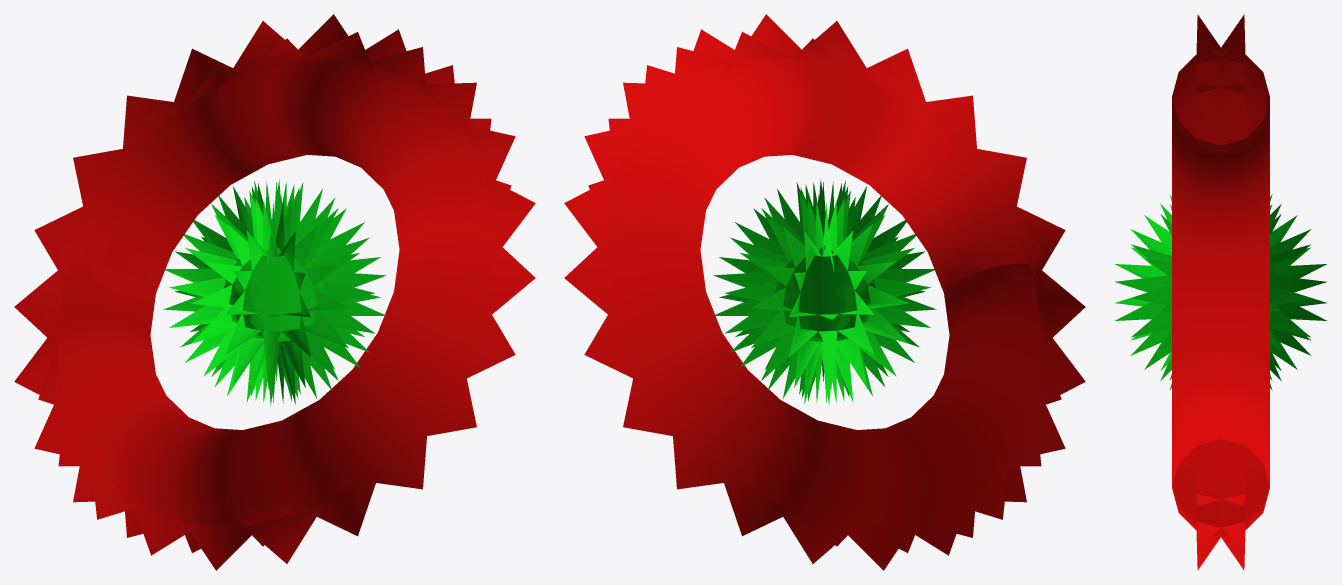
File: success.glb
The picture shows the model from 3 angles, left to right: view 1: azimuth 30°, elevation 25°; view 2: azimuth 150°, elevation 25°; view 3: azimuth 270°, elevation 25°; orthographic projection. The views are drawn at different scales.
Visible parts, largest first — view 1: Success; view 2: Success; view 3: Success.
Boxes of the visible parts, bbox=[...] form: Success: bbox=[14, 14, 535, 570]; Success: bbox=[564, 14, 1085, 570]; Success: bbox=[1115, 14, 1326, 570].
Size of the model in its own units: 1.04 by 1.05 by 0.3995.
